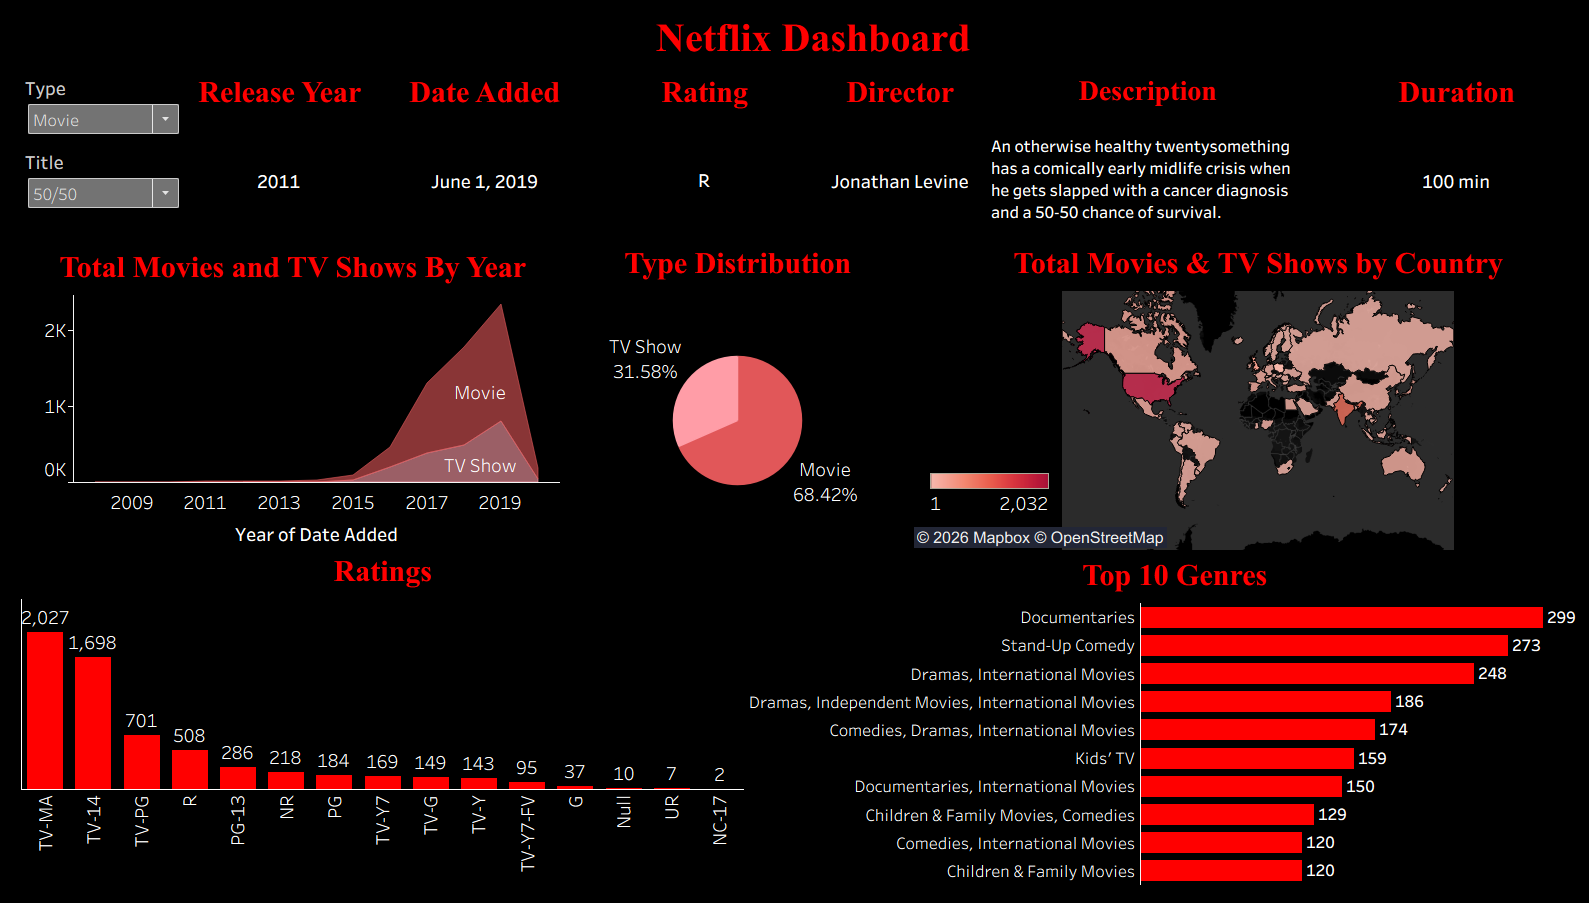

The dashboard page shown, as its layout file describes it:
{"tool":"tableau","page":{"name":"Final Dashboard","canvas":[1600,900],"ordinal":0},"visuals":[{"type":"text","box":[8,8,1584,66]},{"type":"filter","title":"Date Added","param":"[federated.17mfonc1akr0ym18wploj0m4l1ys (copy)].[none:type:nk]","box":[8,74,165,74]},{"type":"worksheet","title":"Release Year","mark":"Text","box":[173,74,186.9,171]},{"type":"worksheet","title":"Date Added","mark":"Text","box":[359.9,74,223.1,171]},{"type":"worksheet","title":"Rating","mark":"Automatic","box":[582.9,74,217.1,171]},{"type":"worksheet","title":"Director","mark":"Text","box":[800,74,174,171]},{"type":"worksheet","title":"Description","mark":"Text","box":[974,74,321,171]},{"type":"worksheet","title":"Duration","mark":"Text","box":[1295,74,297,171]},{"type":"filter","title":"Date Added","param":"[federated.17mfonc1akr0ym18wploj0m4l1ys (copy)].[none:title:nk]","box":[8,148,165,97]},{"type":"worksheet","title":"Total Movies and TV Shows By Year","mark":"Area","rows":["netflix_titles.csv_CB561FC99BCD4933AB85167D56D08DFC"],"cols":["date_added"],"box":[8,245,543,308]},{"type":"worksheet","title":"Type Distribution","mark":"Pie","box":[551,245,346.9,308]},{"type":"worksheet","title":"Total Movies & TV Shows by Country","mark":"Automatic","box":[898,245,694,308]},{"type":"legend","title":"Total Movies & TV Shows by Country","param":"[federated.17mfonc1akr0ym18wploj0m4l1ys (copy)].[__tableau_internal_object_id__]","box":[913,446,127,77]},{"type":"worksheet","title":"Ratings","mark":"Automatic","rows":["netflix_titles.csv_CB561FC99BCD4933AB85167D56D08DFC"],"cols":["rating"],"box":[8,553,723,339]},{"type":"worksheet","title":"Top 10 Genres","mark":"Automatic","rows":["listed_in"],"cols":["netflix_titles.csv_CB561FC99BCD4933AB85167D56D08DFC"],"box":[731,553,861,339]}]}

Visuals, with their boxes in screenshot pixels (x1, y1, x2, y2), scaled from the page's 1600x900 canvas onto the 1589x903 screenshot:
text: detection(8, 8, 1581, 74)
"Date Added" filter: detection(8, 74, 172, 148)
"Release Year" worksheet (Text marks): detection(172, 74, 357, 246)
"Date Added" worksheet (Text marks): detection(357, 74, 579, 246)
"Rating" worksheet: detection(579, 74, 794, 246)
"Director" worksheet (Text marks): detection(794, 74, 967, 246)
"Description" worksheet (Text marks): detection(967, 74, 1286, 246)
"Duration" worksheet (Text marks): detection(1286, 74, 1581, 246)
"Date Added" filter: detection(8, 148, 172, 246)
"Total Movies and TV Shows By Year" worksheet (Area marks): detection(8, 246, 547, 555)
"Type Distribution" worksheet (Pie marks): detection(547, 246, 892, 555)
"Total Movies & TV Shows by Country" worksheet: detection(892, 246, 1581, 555)
"Total Movies & TV Shows by Country" legend: detection(907, 447, 1033, 525)
"Ratings" worksheet: detection(8, 555, 726, 895)
"Top 10 Genres" worksheet: detection(726, 555, 1581, 895)
